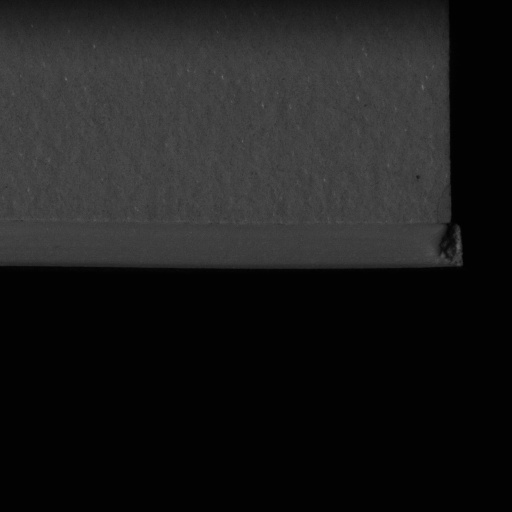bengque: (435, 219, 463, 269)
